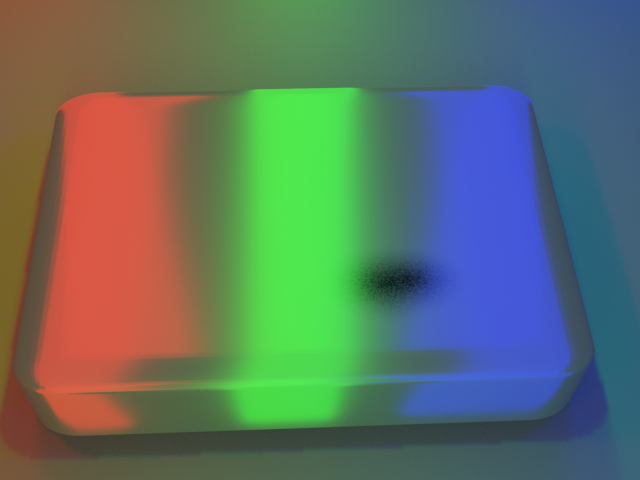stain: (280, 222, 518, 362)
